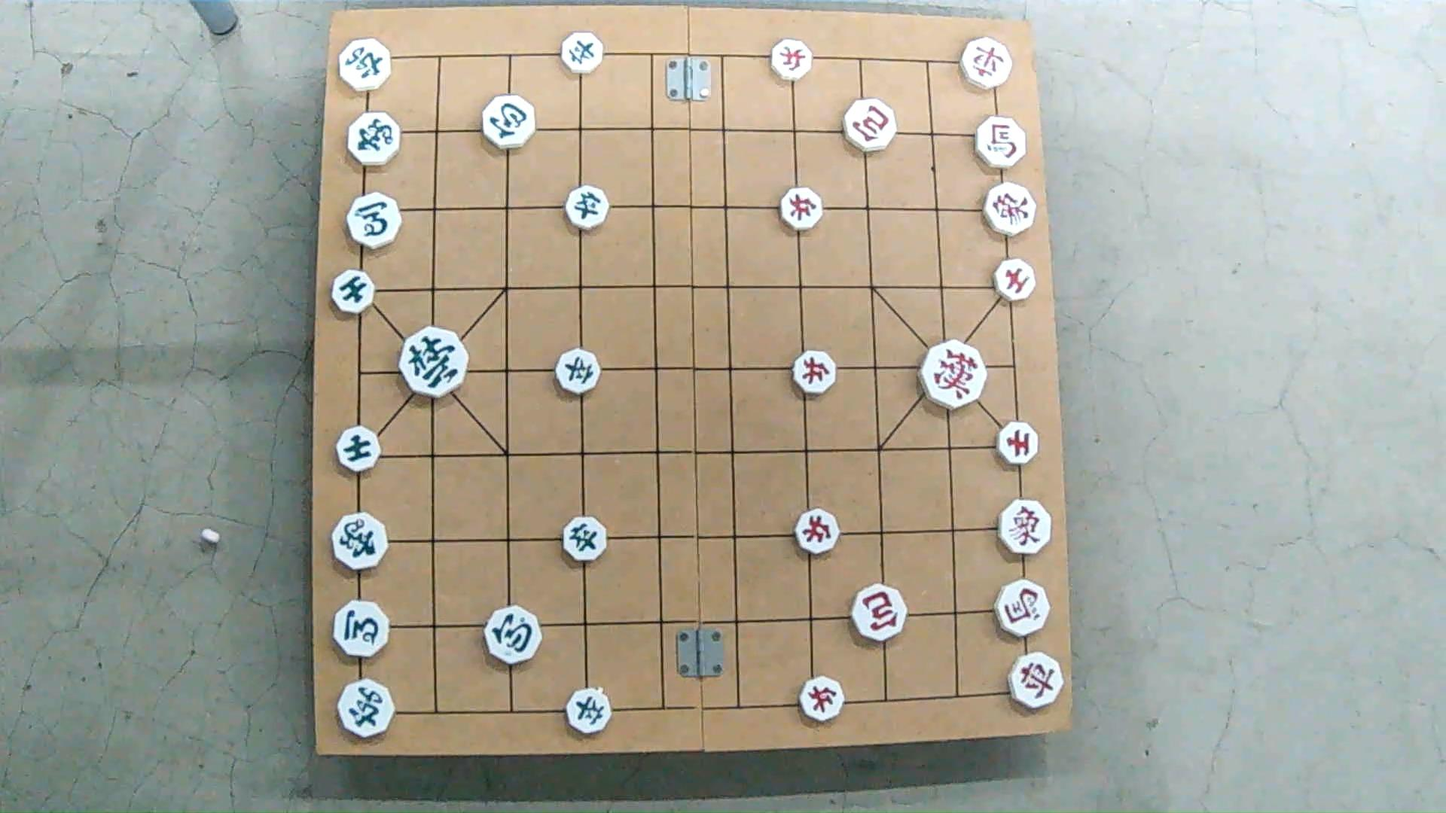cha_green: (339, 36, 392, 93), (339, 683, 394, 737)
cha_red: (1008, 652, 1064, 708), (959, 39, 1011, 88)
jol_green: (568, 690, 615, 735), (560, 517, 606, 561), (555, 352, 602, 394), (564, 188, 610, 229), (559, 34, 603, 74)
jol_red: (793, 511, 839, 555), (798, 677, 843, 720), (792, 352, 837, 394), (778, 191, 822, 232), (771, 39, 814, 79)
ma_green: (334, 601, 390, 659), (347, 196, 401, 248)
ma_red: (997, 580, 1051, 637), (978, 114, 1027, 169)
po_green: (487, 604, 541, 666), (480, 96, 535, 148)
po_red: (852, 587, 907, 641), (844, 102, 898, 152)
sa_green: (329, 271, 375, 314), (336, 429, 380, 473)
sa_red: (998, 419, 1038, 465), (994, 263, 1037, 302)
sang_green: (329, 515, 386, 569), (349, 114, 403, 165)
sang_red: (997, 501, 1054, 553), (980, 184, 1036, 236)
wang_green: (398, 330, 468, 396)
wang_red: (920, 339, 987, 410)
